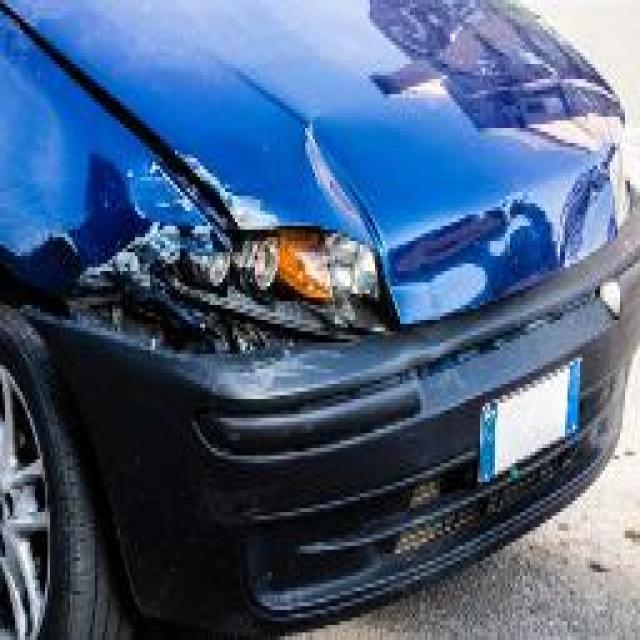Bonnet: (170, 109, 395, 237)
Bumper: (90, 335, 462, 425)
Fender: (15, 132, 168, 312)
Light: (112, 230, 382, 350)
